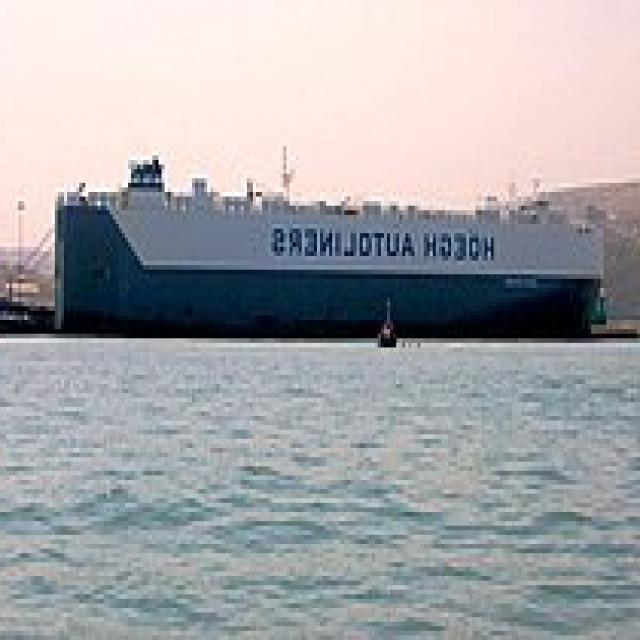Carrier: (52, 142, 612, 338)
